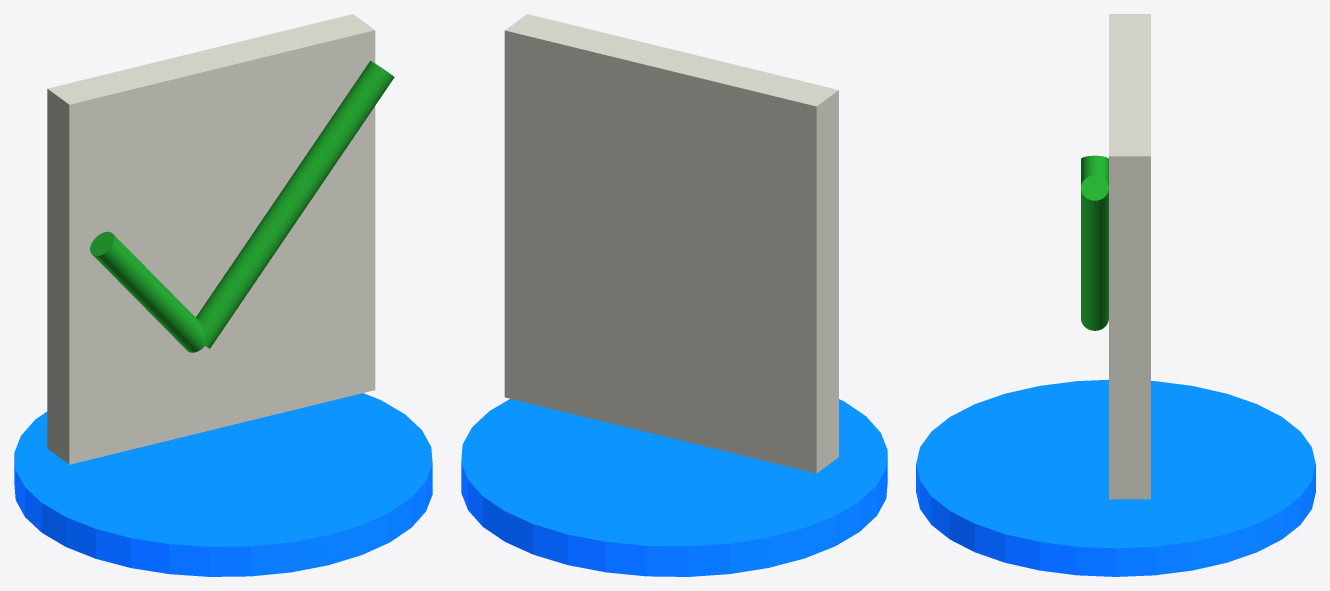
The model's file is news_fact_check.dae.
3 renders of one model, left to right at view 1: azimuth 30°, elevation 25°; view 2: azimuth 150°, elevation 25°; view 3: azimuth 270°, elevation 25°, orthographic. The views are drawn at different scales.
Parts seen in each view (by area): view 1: 09_15_Popular_News_Fact_Check_part_01, 09_15_Popular_News_Fact_Check_ROOT_base, 09_15_Popular_News_Fact_Check_part_03, 09_15_Popular_News_Fact_Check_part_02; view 2: 09_15_Popular_News_Fact_Check_part_01, 09_15_Popular_News_Fact_Check_ROOT_base; view 3: 09_15_Popular_News_Fact_Check_ROOT_base, 09_15_Popular_News_Fact_Check_part_01, 09_15_Popular_News_Fact_Check_part_03, 09_15_Popular_News_Fact_Check_part_02.
Part boxes in pixels (<box>): 09_15_Popular_News_Fact_Check_part_01: <box>47,14,375,464</box>; 09_15_Popular_News_Fact_Check_ROOT_base: <box>14,393,432,576</box>; 09_15_Popular_News_Fact_Check_part_03: <box>196,60,394,348</box>; 09_15_Popular_News_Fact_Check_part_02: <box>90,231,205,352</box>; 09_15_Popular_News_Fact_Check_part_01: <box>504,14,838,473</box>; 09_15_Popular_News_Fact_Check_ROOT_base: <box>461,399,887,576</box>; 09_15_Popular_News_Fact_Check_ROOT_base: <box>916,379,1315,576</box>; 09_15_Popular_News_Fact_Check_part_01: <box>1109,14,1150,499</box>; 09_15_Popular_News_Fact_Check_part_03: <box>1081,175,1108,330</box>; 09_15_Popular_News_Fact_Check_part_02: <box>1081,155,1108,186</box>.
Bounding box in the file's own units: 0.76 × 0.85 × 0.76.
